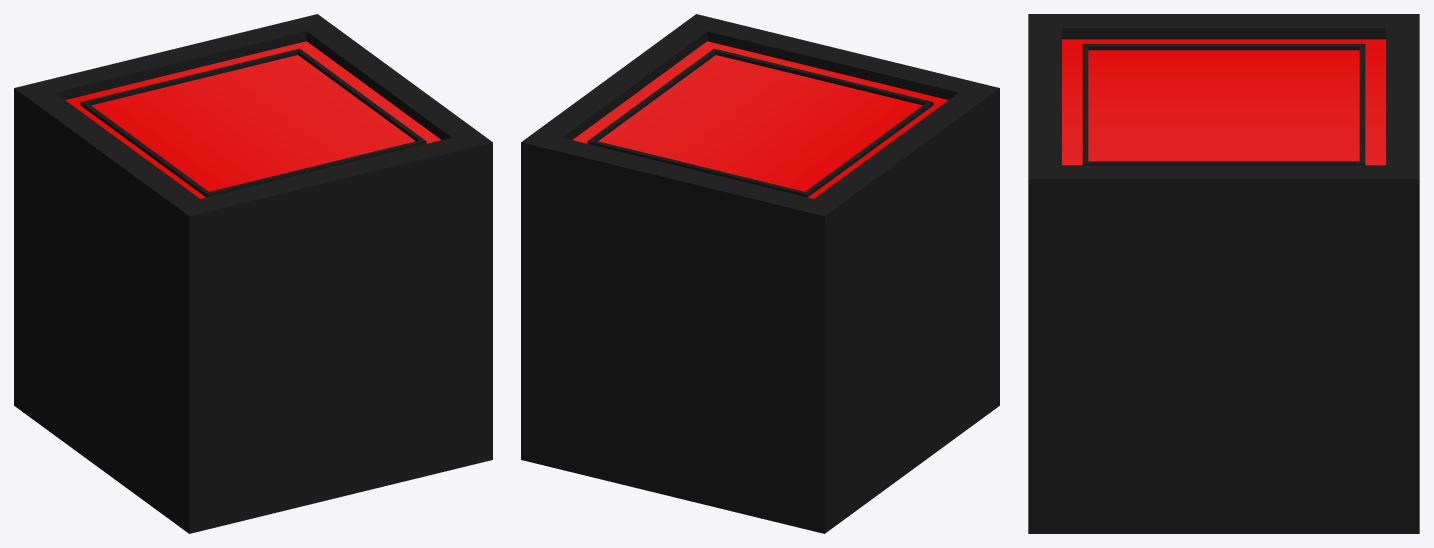
Rendered from StageSelect_NotCleared.fbx.
3 renders of one model, left to right at view 1: azimuth 30°, elevation 25°; view 2: azimuth 150°, elevation 25°; view 3: azimuth 270°, elevation 25°, orthographic. The views are drawn at different scales.
Visible parts, largest first — view 1: Cube; view 2: Cube; view 3: Cube.
Part boxes in pixels (x1,y1,x2,y2): Cube: [14, 14, 492, 533]; Cube: [521, 14, 999, 533]; Cube: [1028, 14, 1419, 533].
Size of the model in its own units: 1 by 1 by 1.
